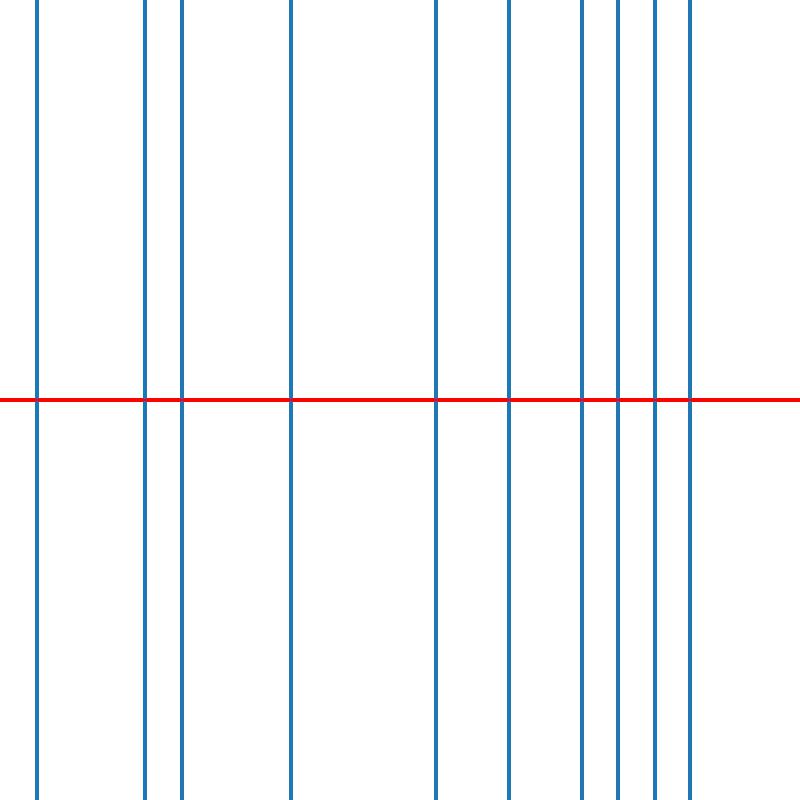root: (432, 396, 440, 404), (141, 396, 149, 404), (650, 396, 658, 404), (32, 396, 40, 404), (505, 396, 512, 404), (614, 396, 621, 404), (578, 396, 585, 404), (178, 396, 185, 404), (287, 396, 294, 404), (687, 396, 694, 404)
